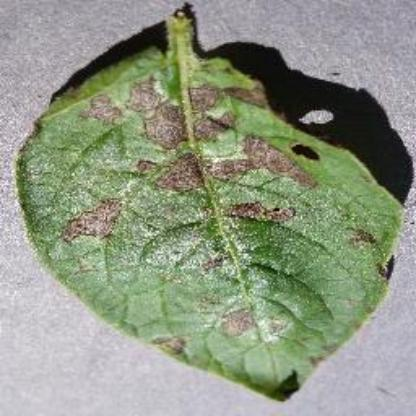Early-Blight: (12, 7, 402, 398)
